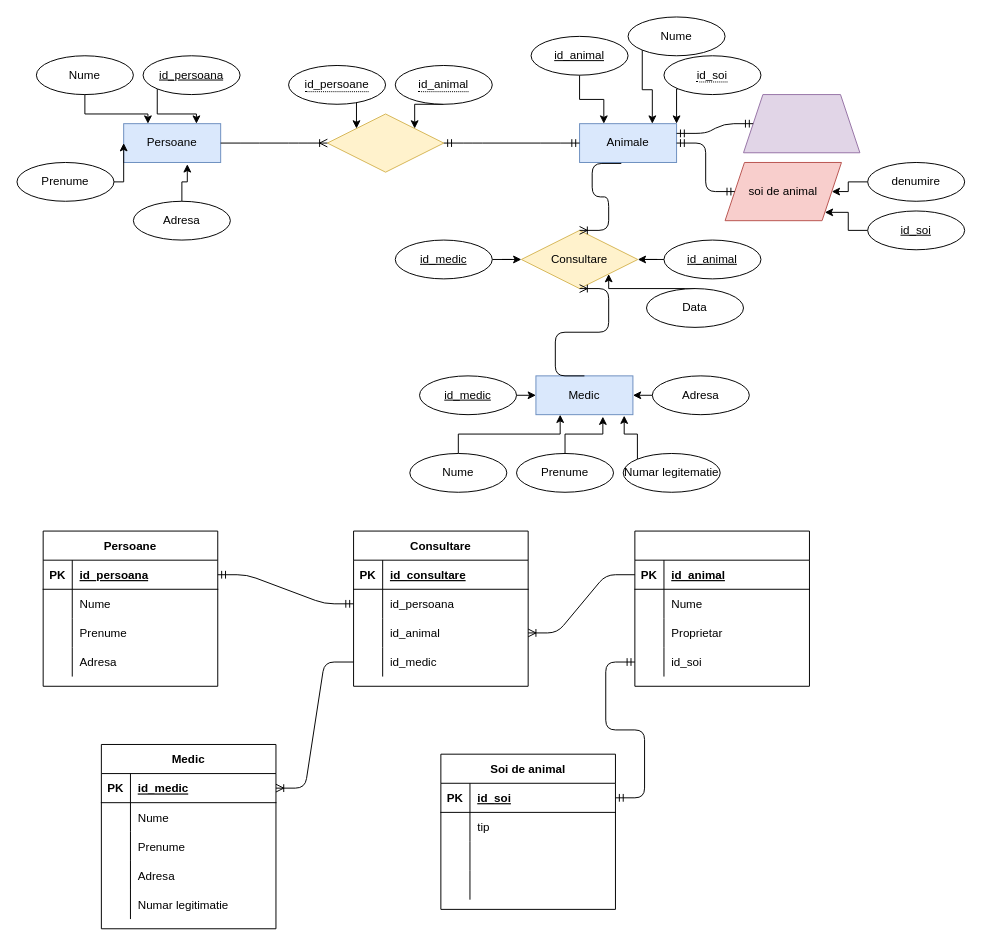
The diagram is 982 pixels wide and 946 high, and some of its shapes have lost their labels. Each missing label, with the box of its shape:
Câine: (634, 530, 809, 686)
Detine: (326, 113, 444, 172)
Pasaport: (743, 94, 860, 153)
